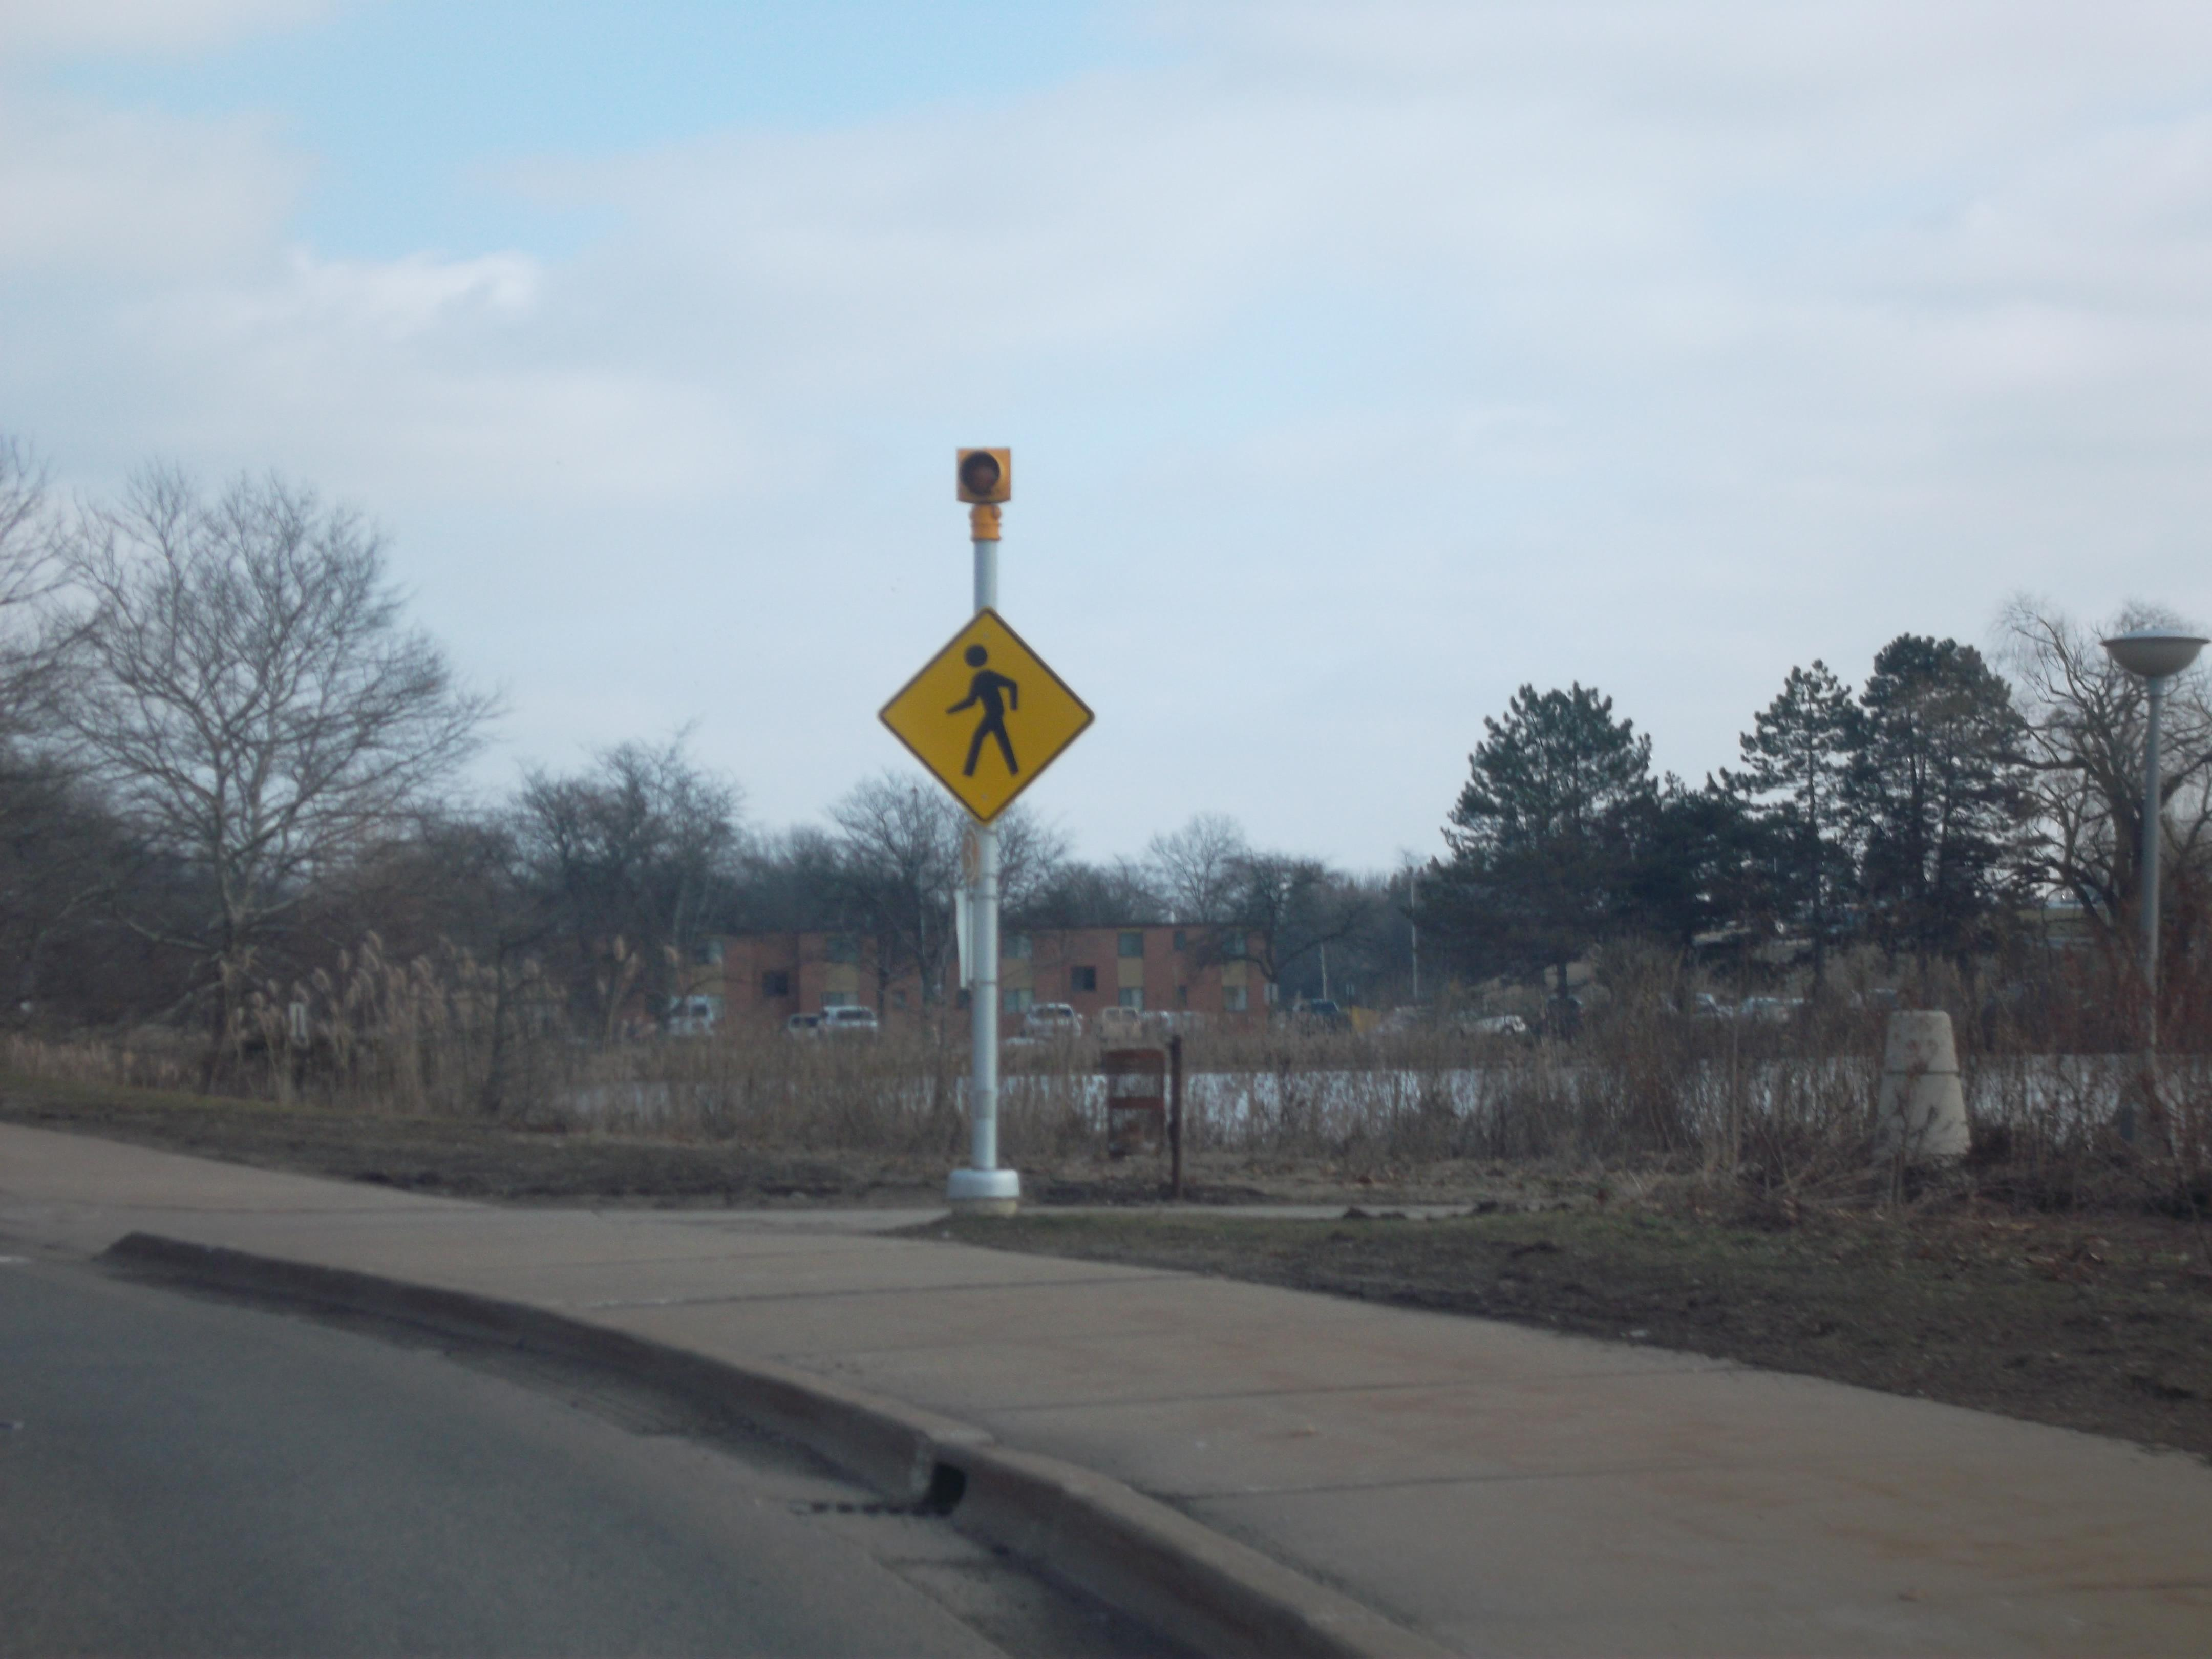warning: (871, 612, 1096, 824)
